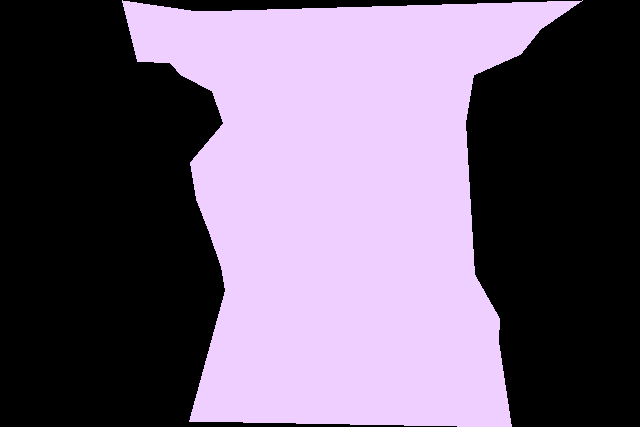Train: (122, 0, 583, 427)
